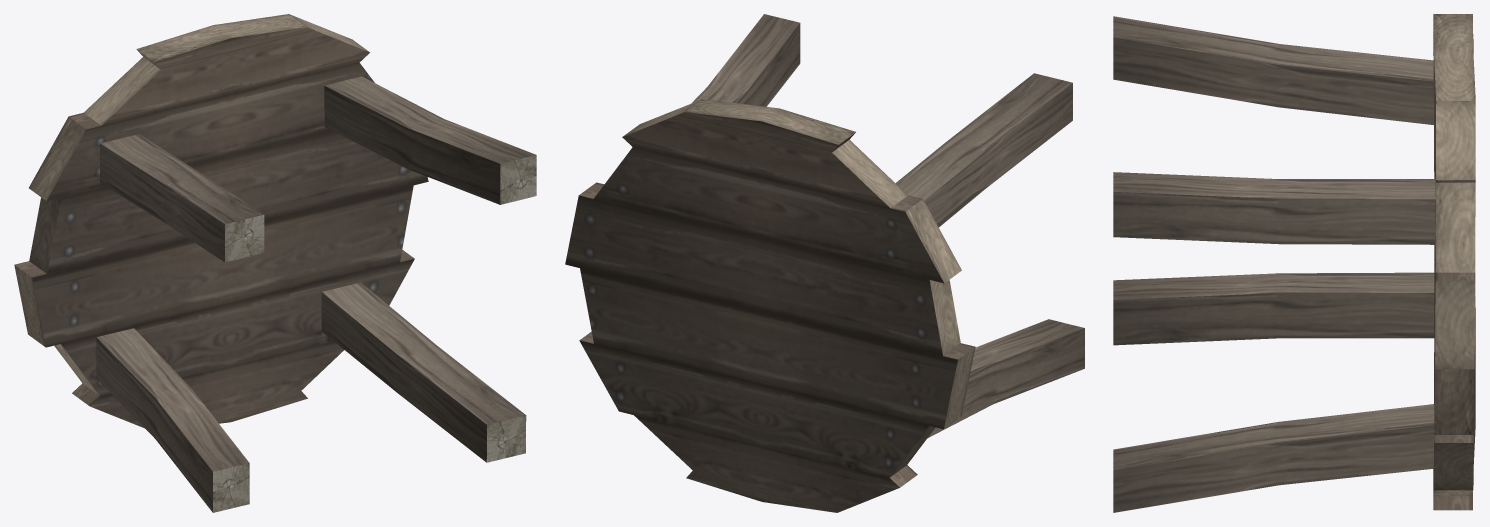
File: Table_Round_Small_A.fbx
3 renders of one model, left to right at view 1: azimuth 30°, elevation 25°; view 2: azimuth 150°, elevation 25°; view 3: azimuth 270°, elevation 25°, orthographic. The views are drawn at different scales.
Visible parts, largest first — view 1: Table_Round_Small_A; view 2: Table_Round_Small_A; view 3: Table_Round_Small_A.
Part boxes in pixels (bbox=[...]): Table_Round_Small_A: bbox=[14, 14, 536, 512]; Table_Round_Small_A: bbox=[565, 14, 1084, 512]; Table_Round_Small_A: bbox=[1113, 14, 1475, 512].
Bounding box in the file's own units: 1.3 × 1.2 × 0.9303.
